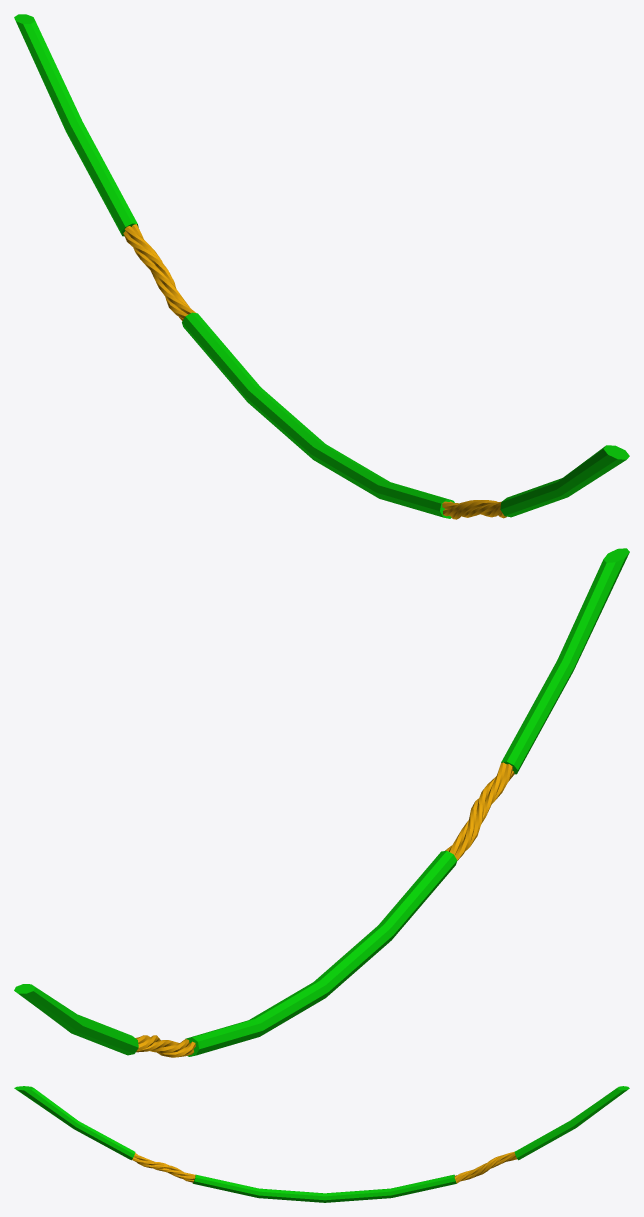
The model's file is Green_cable.fbx.
3 renders of one model, top to bottom at view 1: azimuth 30°, elevation 25°; view 2: azimuth 150°, elevation 25°; view 3: azimuth 270°, elevation 25°, orthographic. The views are drawn at different scales.
Visible parts, largest first — view 1: Cable; view 2: Cable; view 3: Cable.
Part boxes in pixels (bbox=[...]): Cable: bbox=[14, 14, 629, 519]; Cable: bbox=[14, 548, 629, 1057]; Cable: bbox=[14, 1086, 629, 1202].
Bounding box in the file's own units: 1.69 × 19.02 × 92.72.
